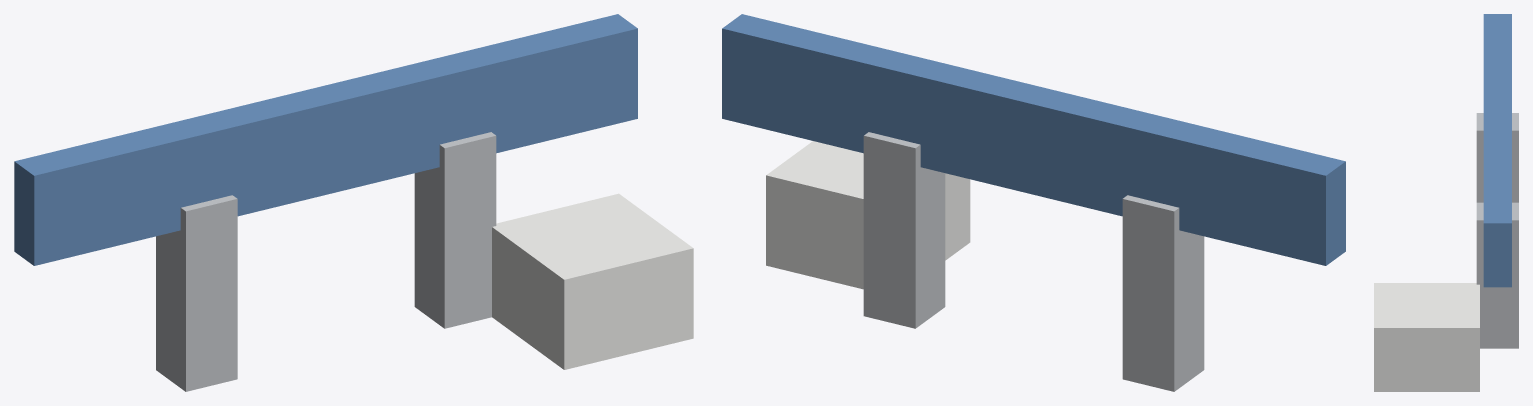
File: battleship_entry.glb
3 renders of one model, left to right at view 1: azimuth 30°, elevation 25°; view 2: azimuth 150°, elevation 25°; view 3: azimuth 270°, elevation 25°, orthographic. The views are drawn at different scales.
Visible parts, largest first — view 1: sign, booth, gate_l, gate_r; view 2: sign, gate_r, gate_l, booth; view 3: booth, sign, gate_r, gate_l.
Boxes of the visible parts, left/top/right/bottom form: sign: left=14, top=14, right=637, bottom=265; booth: left=492, top=193, right=693, bottom=369; gate_l: left=156, top=195, right=237, bottom=391; gate_r: left=414, top=132, right=496, bottom=328; sign: left=722, top=14, right=1345, bottom=265; gate_r: left=863, top=132, right=945, bottom=328; gate_l: left=1122, top=195, right=1204, bottom=391; booth: left=766, top=141, right=970, bottom=289; booth: left=1374, top=283, right=1479, bottom=391; sign: left=1483, top=14, right=1511, bottom=287; gate_r: left=1476, top=202, right=1518, bottom=348; gate_l: left=1476, top=113, right=1518, bottom=202.
Bounding box in the file's own units: 14 × 5.5 × 4.1.
